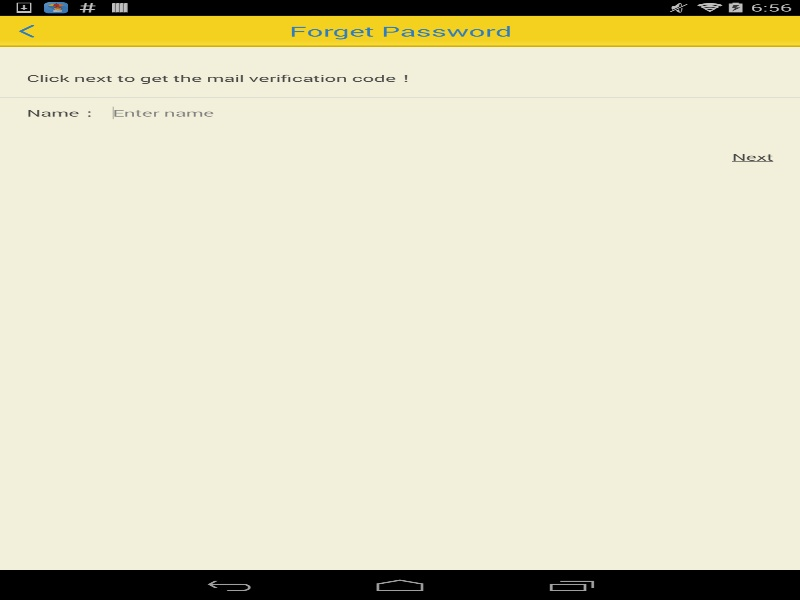Input: (99, 97, 800, 128)
